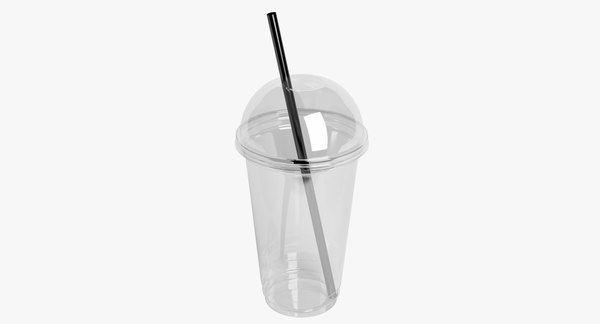plastic_glass: (224, 65, 376, 322)
